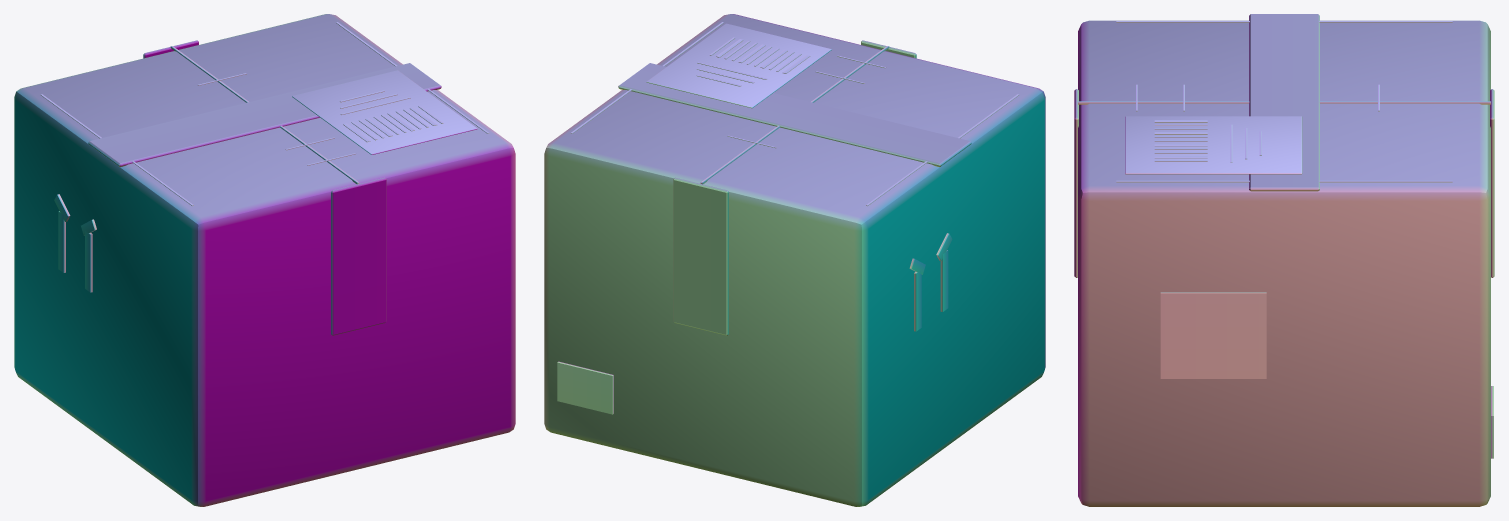
The model's file is prop_box.glb.
3 renders of one model, left to right at view 1: azimuth 30°, elevation 25°; view 2: azimuth 150°, elevation 25°; view 3: azimuth 270°, elevation 25°, orthographic. The views are drawn at different scales.
Visible parts, largest first — view 1: prop_box_mesh; view 2: prop_box_mesh; view 3: prop_box_mesh.
Boxes of the visible parts, left/top/right/bottom form: prop_box_mesh: left=14, top=14, right=515, bottom=506; prop_box_mesh: left=544, top=14, right=1045, bottom=506; prop_box_mesh: left=1074, top=14, right=1494, bottom=506.
Size of the model in its own units: 0.71 by 0.6125 by 0.712.
